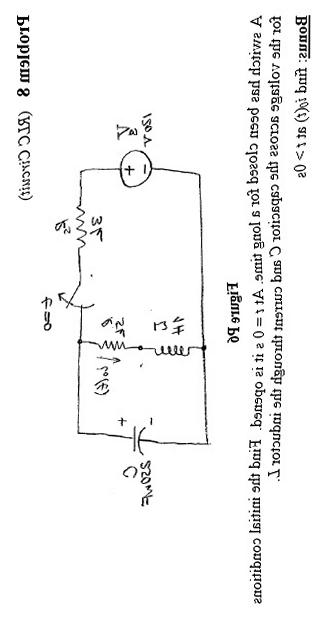Battery: (105, 146, 168, 202)
